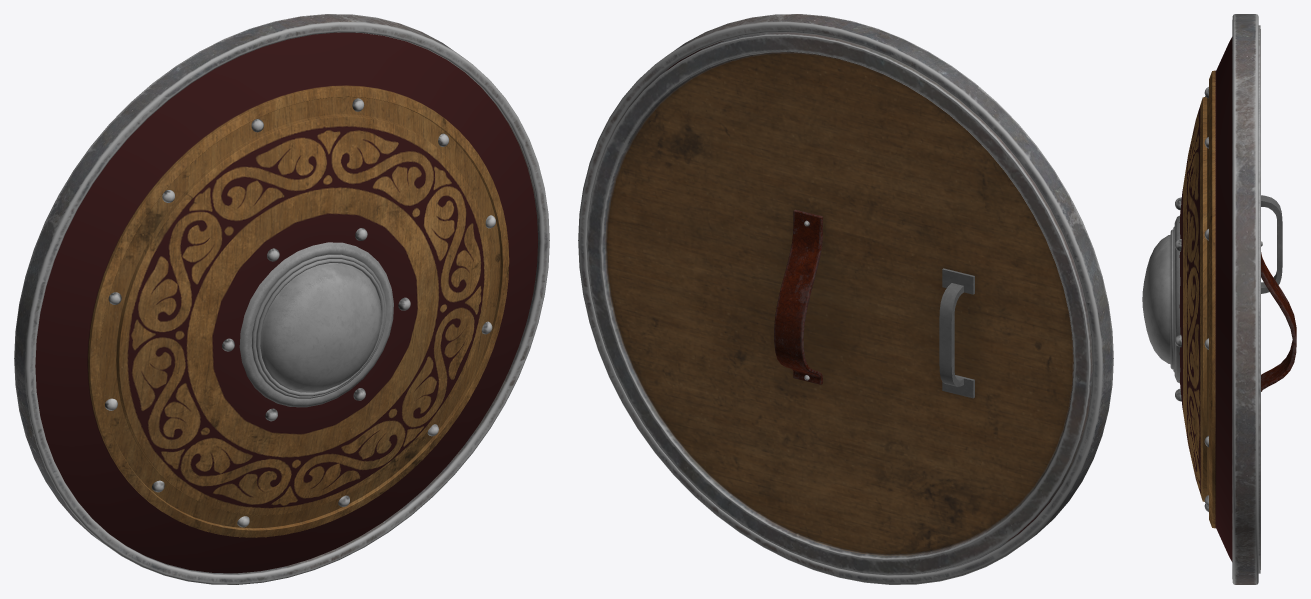
Rendered from vshield.fbx.
3 views of the same model, side by side, from view 1: azimuth 30°, elevation 25°; view 2: azimuth 150°, elevation 25°; view 3: azimuth 270°, elevation 25° (orthographic). The views are drawn at different scales.
Visible parts, largest first — view 1: Object_2; view 2: Object_2; view 3: Object_2.
Boxes of the visible parts, bbox=[...] form: Object_2: bbox=[14, 14, 549, 584]; Object_2: bbox=[578, 14, 1113, 584]; Object_2: bbox=[1142, 14, 1296, 584].
Size of the model in its own units: 437 by 437 by 118.
1 material, 1 textured.
